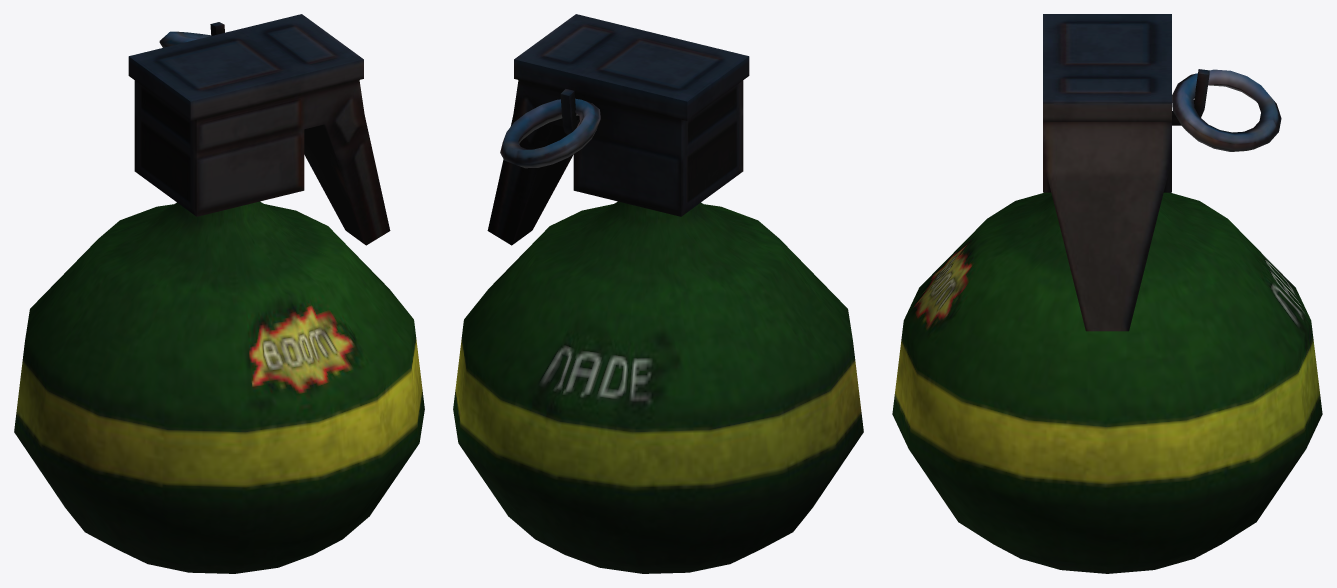
The model's file is nade_low.glb.
The picture shows the model from 3 angles, left to right: view 1: azimuth 30°, elevation 25°; view 2: azimuth 150°, elevation 25°; view 3: azimuth 270°, elevation 25°; orthographic projection. The views are drawn at different scales.
Parts seen in each view (by area): view 1: nade_low, nadehaut_low; view 2: nade_low, nadehaut_low, nadehaut_low.001; view 3: nade_low, nadehaut_low, nadehaut_low.001.
Boxes of the visible parts, x1=… form: nade_low: x1=14, y1=201, x2=424, y2=573; nadehaut_low: x1=128, y1=14, x2=390, y2=245; nade_low: x1=453, y1=201, x2=863, y2=573; nadehaut_low: x1=487, y1=14, x2=749, y2=245; nadehaut_low.001: x1=500, y1=98, x2=600, y2=168; nade_low: x1=892, y1=192, x2=1322, y2=573; nadehaut_low: x1=1043, y1=14, x2=1209, y2=331; nadehaut_low.001: x1=1172, y1=69, x2=1281, y2=151.
Size of the model in its own units: 0.1117 by 0.1413 by 0.1117.
Materials: 1 (1 with a texture image).
